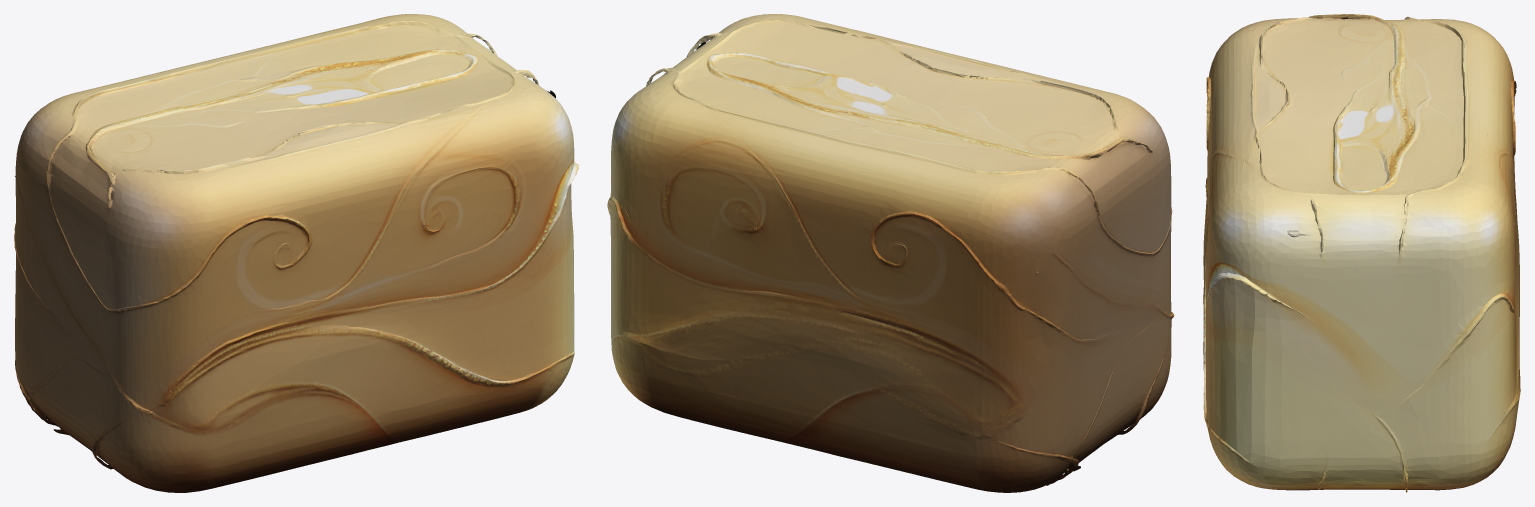
Rendered from silk-protein-shampoo-bar-3d.jpeg.glb.
3 renders of one model, left to right at view 1: azimuth 30°, elevation 25°; view 2: azimuth 150°, elevation 25°; view 3: azimuth 270°, elevation 25°, orthographic. The views are drawn at different scales.
Parts seen in each view (by area): view 1: world; view 2: world; view 3: world.
Part boxes in pixels (x1=…): world: x1=14, y1=14, x2=578, y2=492; world: x1=607, y1=14, x2=1174, y2=492; world: x1=1203, y1=14, x2=1520, y2=492.
Bounding box in the file's own units: 0.9974 × 0.6613 × 0.6314.
1 material, 1 textured.
